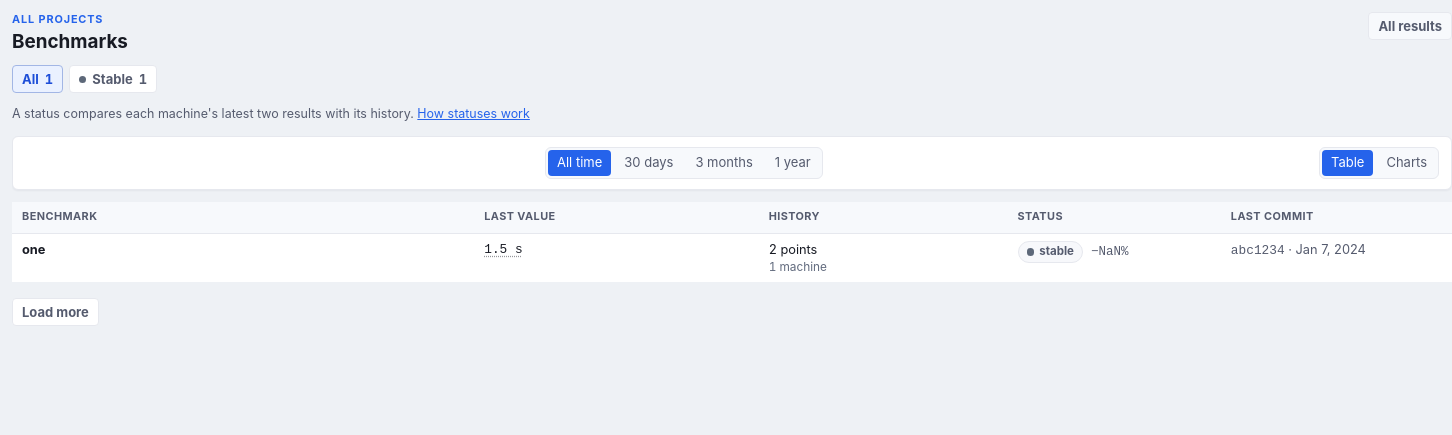
SeriesBrowse › keeps loaded rows and offers retry when Load more fails
Expected: the link "one" is shown, x1=22 y1=242 x2=46 y2=257
Step 1. Click the button "Load more" → (55,312), box x1=12 y1=298 x2=99 y2=326
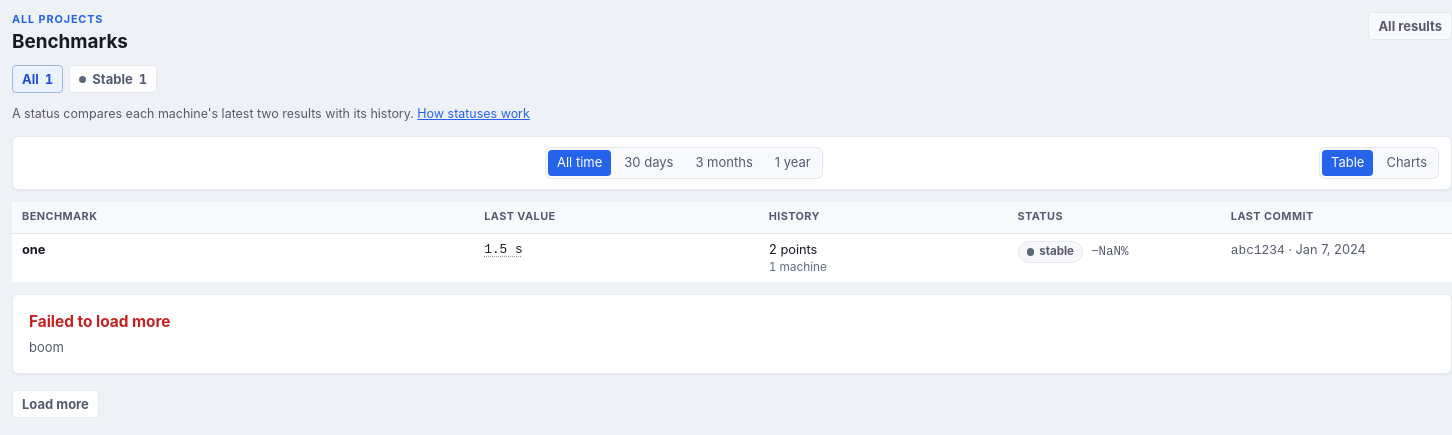
Expected: the link "one" is shown, x1=22 y1=242 x2=46 y2=257
Now the heading "Failed to load more" is shown, box x1=29 y1=312 x2=170 y2=331
Step 2. Click the button "Load more" → (55,404), box x1=12 y1=390 x2=99 y2=418
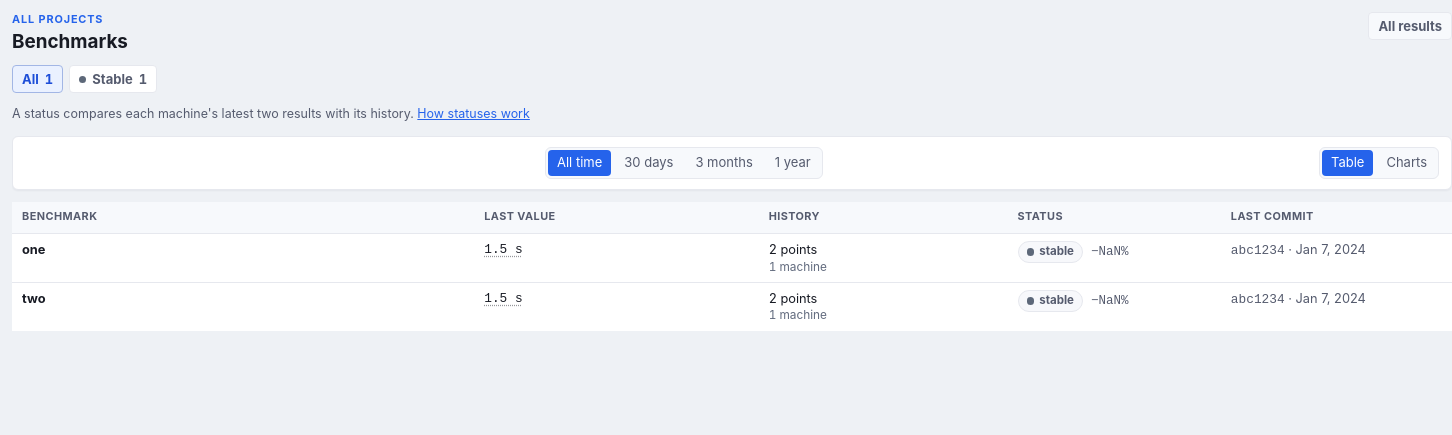
Now the link "two" is shown, box x1=22 y1=291 x2=46 y2=306
Now the heading "Failed to load more" is gone
